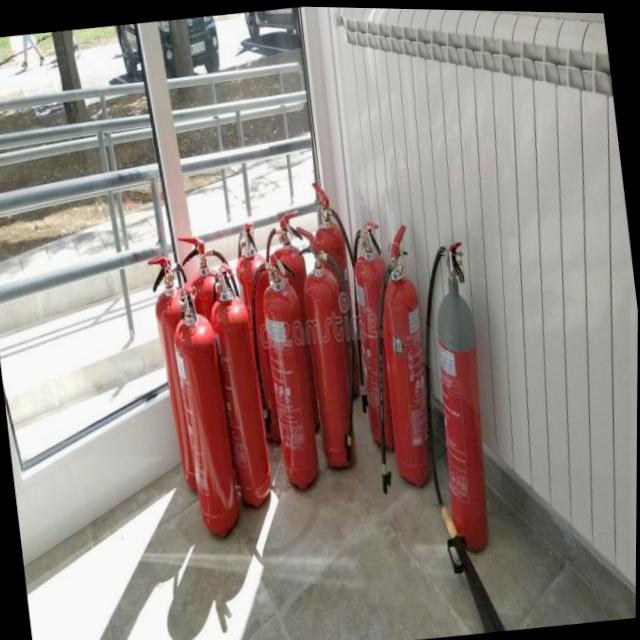FireExtinguisher: (401, 234, 518, 635), (348, 216, 446, 499), (172, 224, 272, 493), (238, 237, 331, 500), (161, 270, 248, 541), (143, 242, 227, 500), (199, 253, 280, 514), (291, 217, 369, 475), (300, 172, 380, 418), (225, 213, 298, 453), (338, 215, 411, 453), (256, 202, 328, 433)
